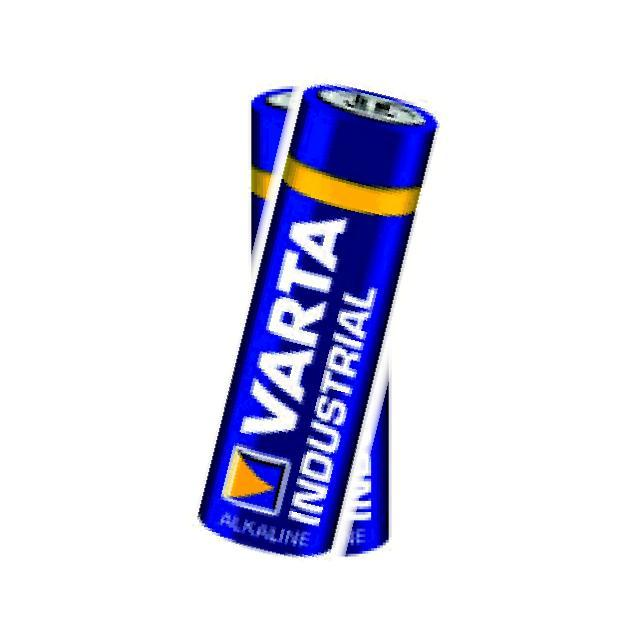Battery: (193, 78, 441, 557), (347, 378, 396, 555), (252, 84, 294, 261)
